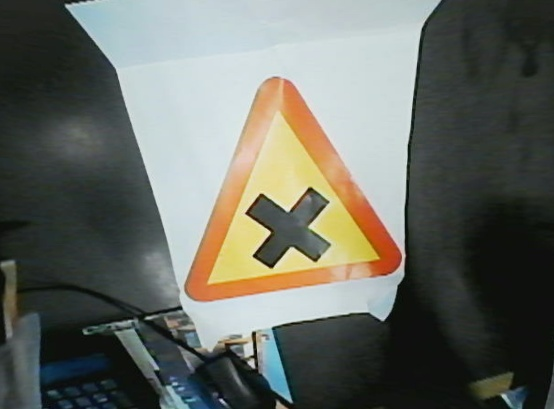junction: (162, 71, 447, 329)
